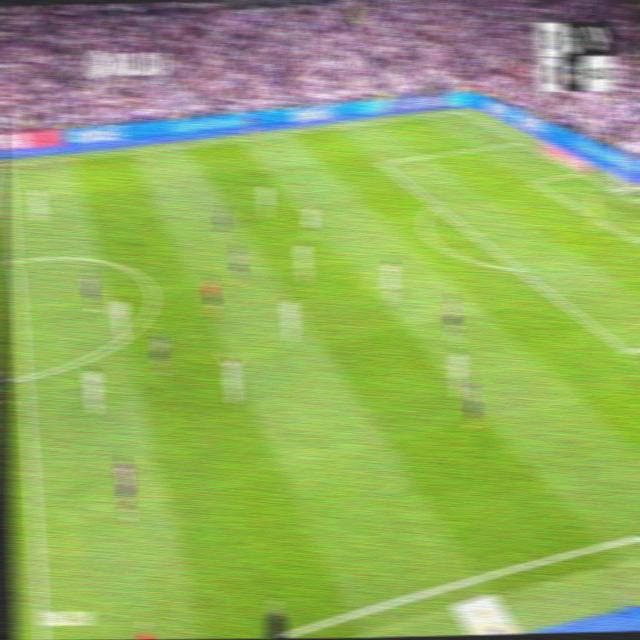bigarea_bottom_inner: (619, 339, 634, 362)
bigarea_top_inner: (376, 155, 389, 169)
bigarea_top_outter: (514, 135, 525, 146)
bottom_arc_area_intersection: (509, 257, 524, 277)
corner: (454, 105, 467, 115)
halfcircle_bottom: (15, 362, 31, 388)
halfcircle_top: (6, 249, 21, 269)
midline_top_intersection: (0, 157, 12, 169)
smallarea_top_inner: (528, 177, 537, 185)
top_arc_area_intersection: (427, 195, 441, 211)
